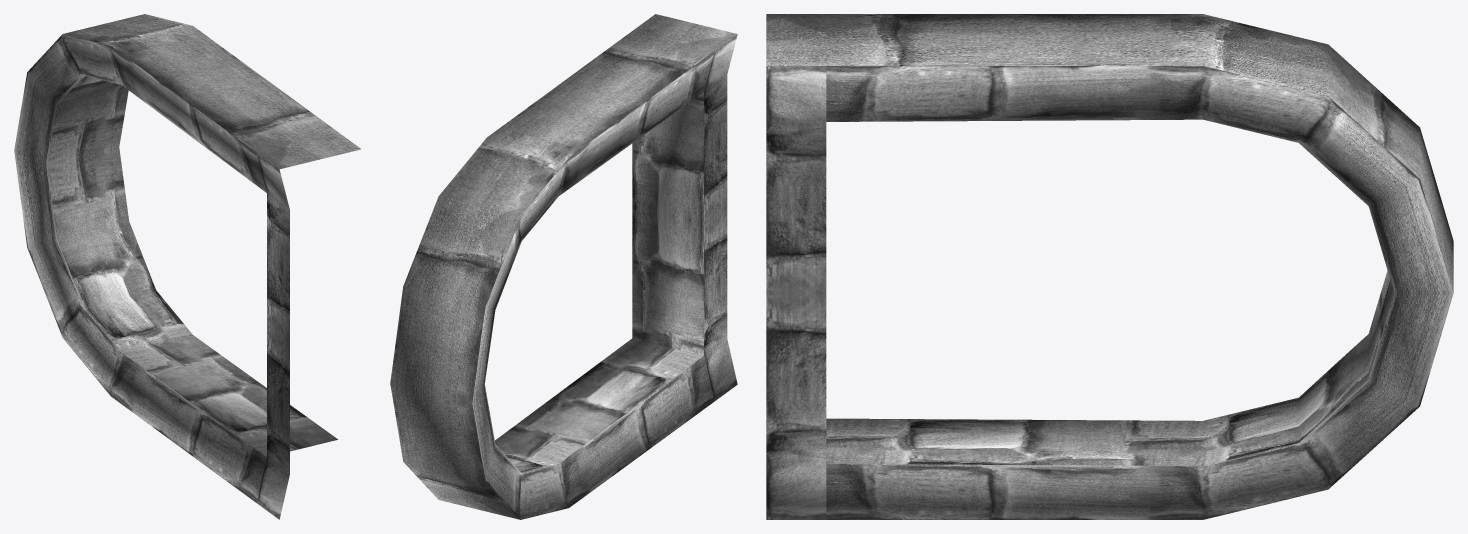
The model's file is winFrame.glb.
3 views of the same model, side by side, from view 1: azimuth 30°, elevation 25°; view 2: azimuth 150°, elevation 25°; view 3: azimuth 270°, elevation 25° (orthographic). The views are drawn at different scales.
Parts seen in each view (by area): view 1: castelwall.png__; view 2: castelwall.png__; view 3: castelwall.png__.
Boxes of the visible parts, x1,y1,x2,y2 form: castelwall.png__: [14, 14, 360, 519]; castelwall.png__: [390, 14, 737, 519]; castelwall.png__: [766, 14, 1453, 519].
Size of the model in its own units: 4.5 by 18.35 by 25.17.
1 material, 1 textured.
